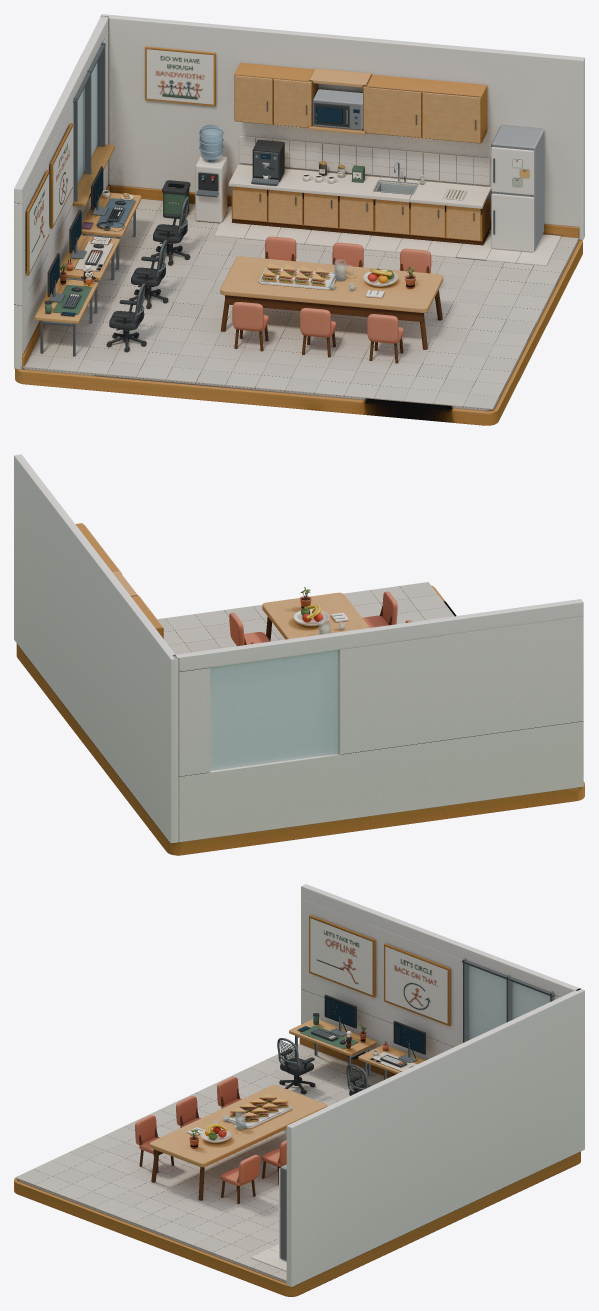
The model's file is corporate-office.glb.
The picture shows the model from 3 angles, top to bottom: view 1: azimuth 30°, elevation 25°; view 2: azimuth 150°, elevation 25°; view 3: azimuth 270°, elevation 25°; orthographic projection. The views are drawn at different scales.
Visible parts, largest first — view 1: Baked corporate-office architecture, Baked corporate-office details, Live glass and reflective metal; view 2: Baked corporate-office architecture, Baked corporate-office details; view 3: Baked corporate-office architecture, Baked corporate-office details, Live glass and reflective metal.
Boxes of the visible parts, bbox=[...] form: Baked corporate-office architecture: bbox=[14, 14, 584, 425]; Baked corporate-office details: bbox=[21, 56, 578, 409]; Live glass and reflective metal: bbox=[40, 42, 544, 356]; Baked corporate-office architecture: bbox=[14, 454, 584, 855]; Baked corporate-office details: bbox=[157, 582, 454, 654]; Baked corporate-office architecture: bbox=[14, 884, 584, 1296]; Baked corporate-office details: bbox=[15, 959, 429, 1281]; Live glass and reflective metal: bbox=[194, 959, 554, 1260].
Size of the model in its own units: 22.35 by 7.32 by 22.13.
Materials: 11 (2 with a texture image).
